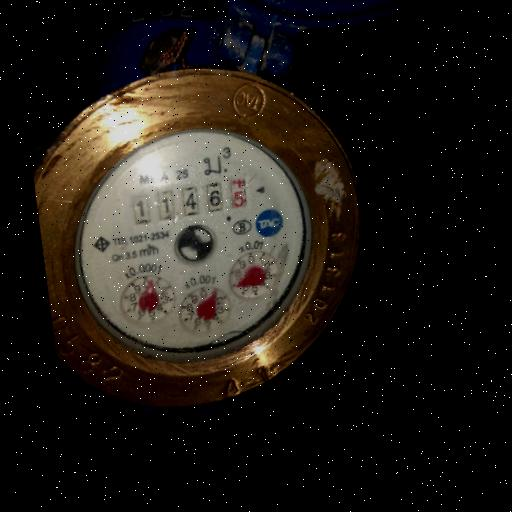1: (130, 193, 153, 226), (156, 189, 177, 220)
4: (180, 186, 201, 216)
5: (228, 178, 250, 208)
6: (204, 181, 226, 213)
border_water_meter_number: (127, 173, 252, 229)
